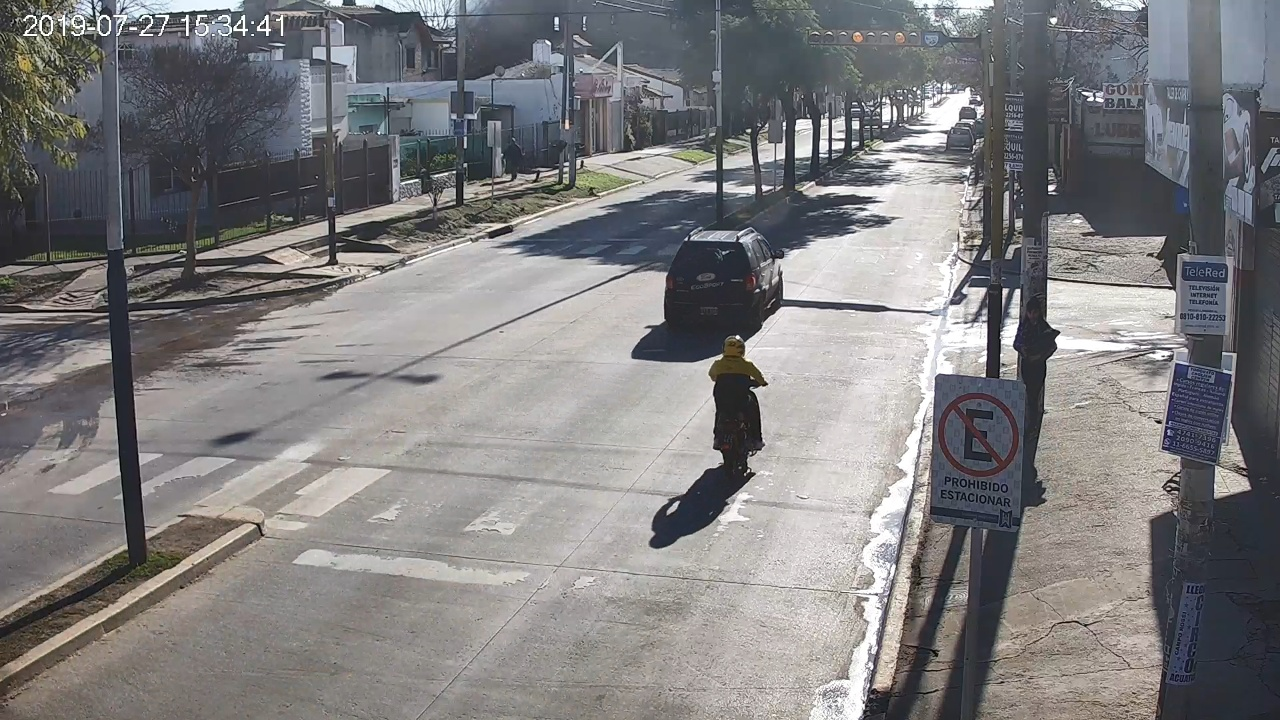car: (664, 228, 784, 327)
motorcycle: (708, 360, 769, 480)
